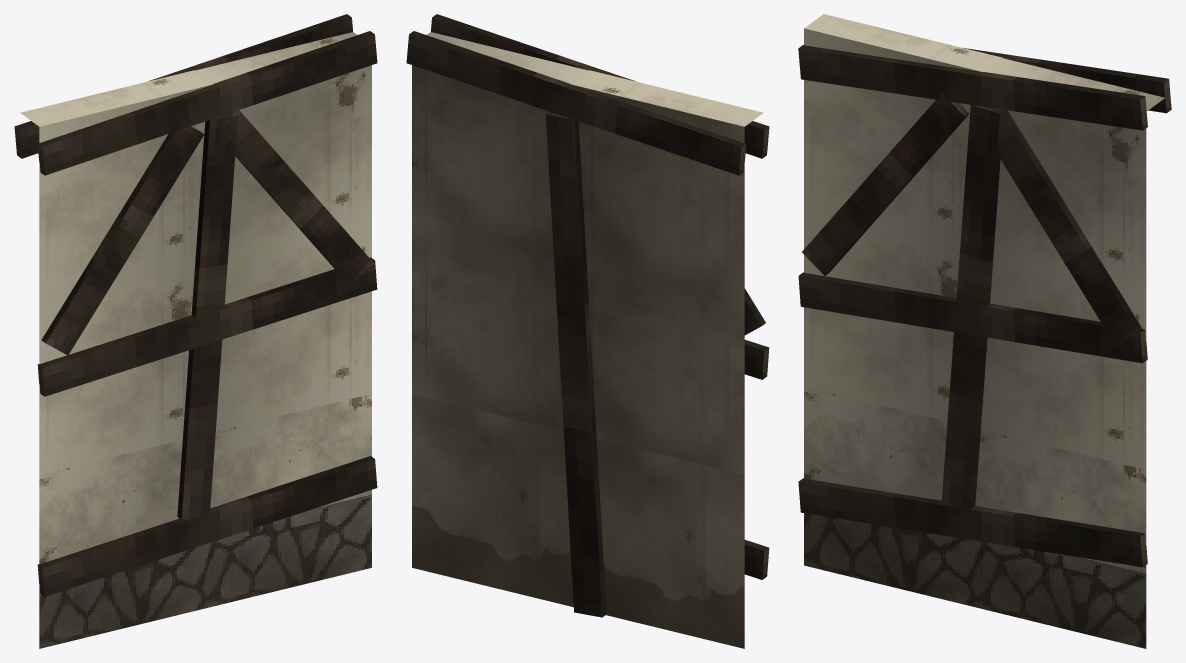
File: wall_timber.glb
The picture shows the model from 3 angles, left to right: view 1: azimuth 30°, elevation 25°; view 2: azimuth 150°, elevation 25°; view 3: azimuth 330°, elevation 25°; orthographic projection. The views are drawn at different scales.
Parts seen in each view (by area): view 1: wall_timber; view 2: wall_timber; view 3: wall_timber.
Part boxes in pixels (<box>): wall_timber: <box>14,14,377,648</box>; wall_timber: <box>406,14,769,648</box>; wall_timber: <box>798,14,1171,648</box>.
Size of the model in its own units: 2.02 by 3.09 by 0.29.
Materials: 1 (1 with a texture image).
